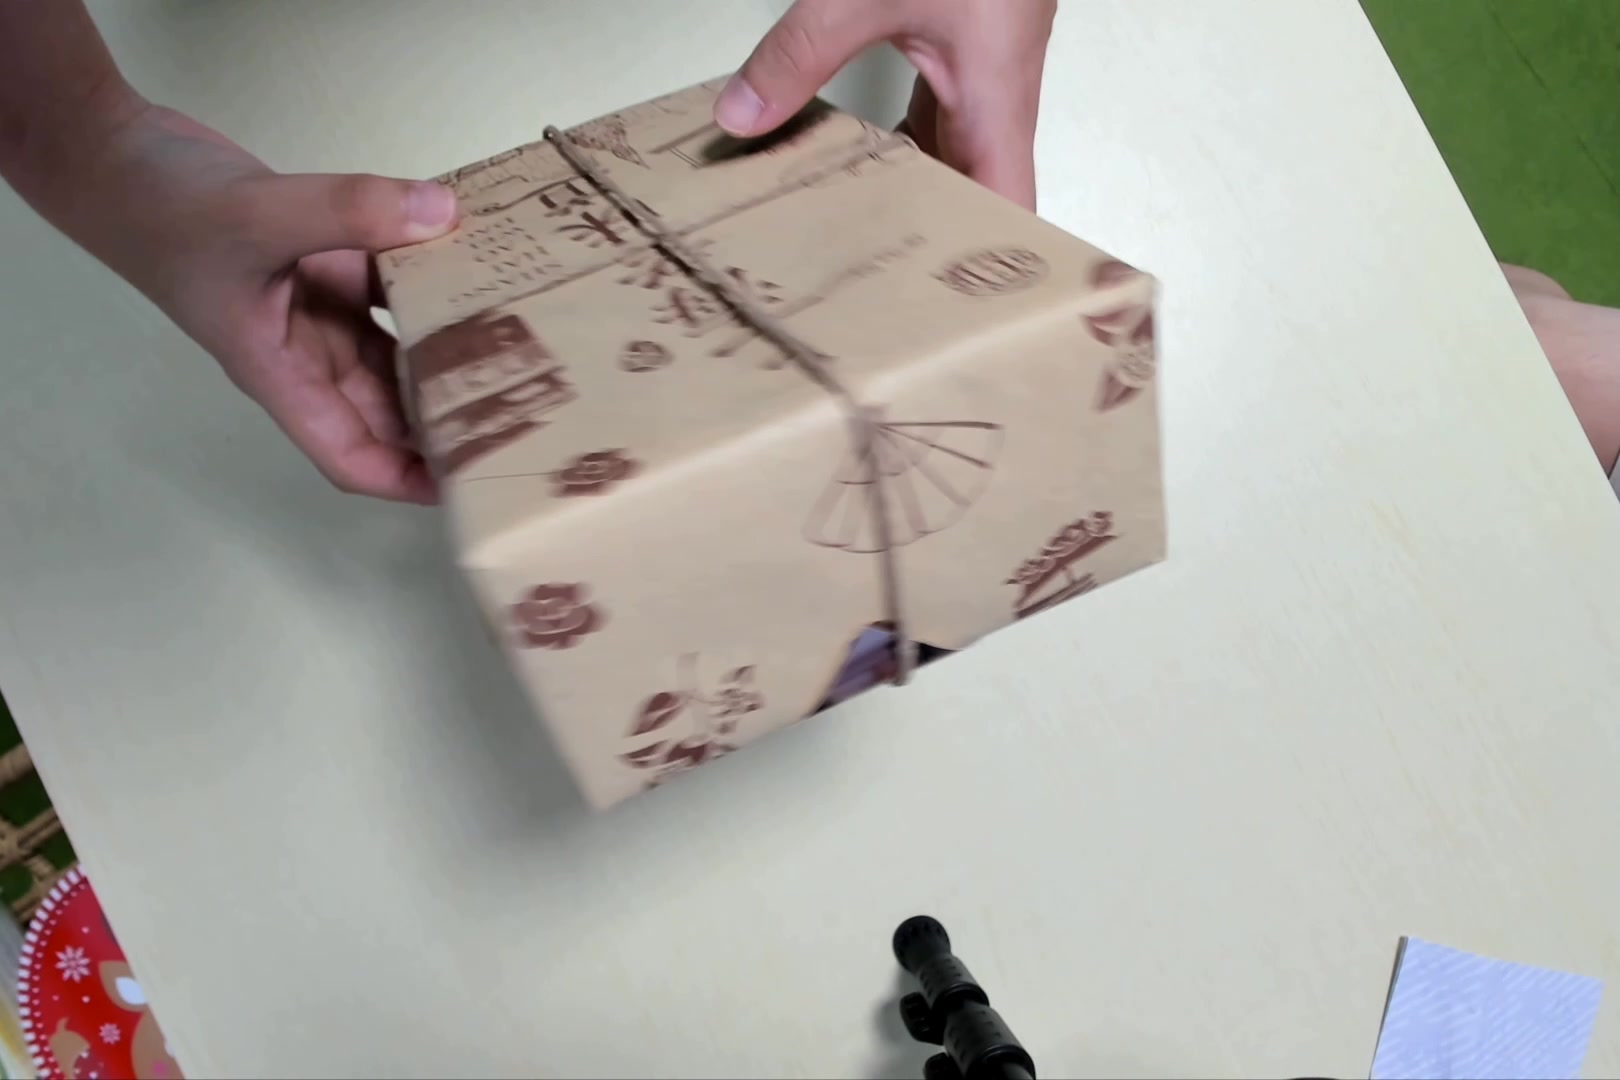BiscuitsCrackersCookies_400-499g_NonHalal_NonHealthy: (369, 67, 1184, 828)
